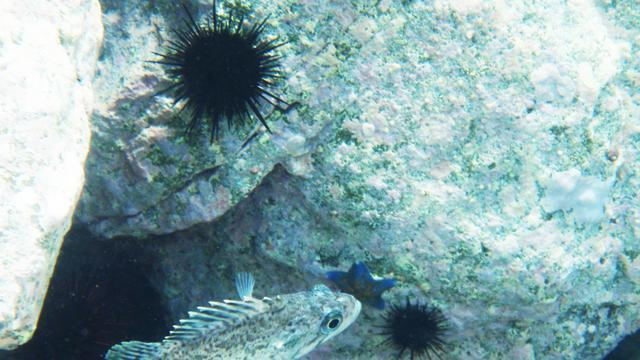urchin: (154, 10, 282, 136), (384, 301, 442, 356)
